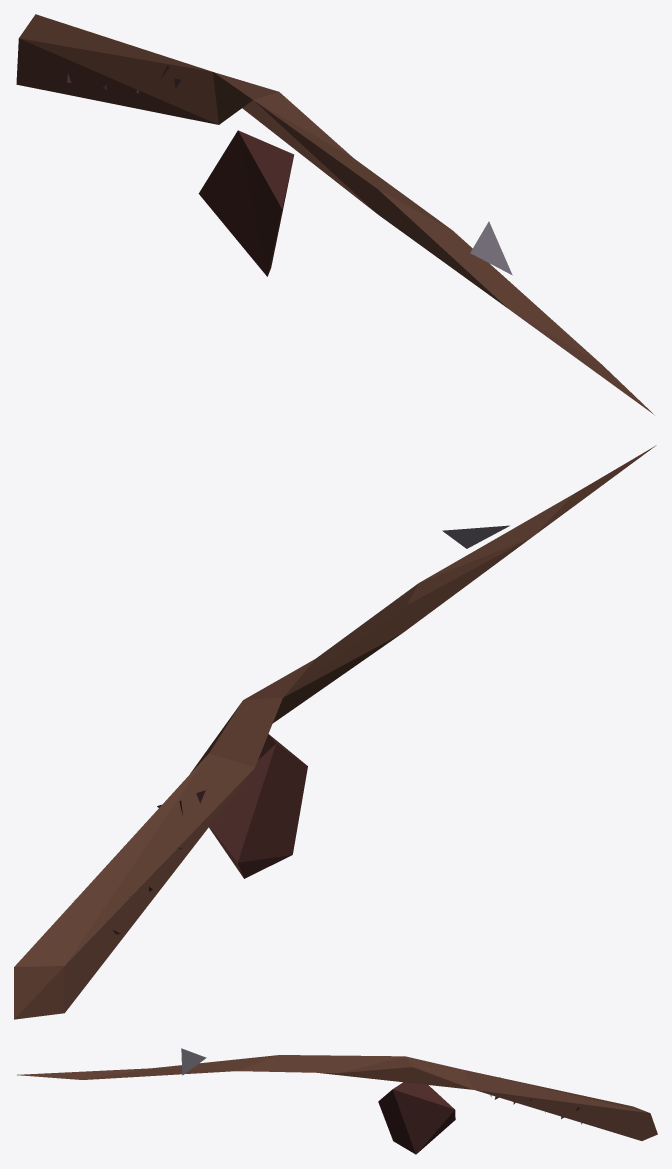
File: cove-fishing-rod.lod2.glb
3 renders of one model, top to bottom at view 1: azimuth 30°, elevation 25°; view 2: azimuth 150°, elevation 25°; view 3: azimuth 270°, elevation 25°, orthographic. The views are drawn at different scales.
Visible parts, largest first — view 1: LowPolyRod_rod_0; view 2: LowPolyRod_rod_0; view 3: LowPolyRod_rod_0.
Part boxes in pixels (<box>): LowPolyRod_rod_0: <box>16,14,653,414</box>; LowPolyRod_rod_0: <box>14,445,656,1019</box>; LowPolyRod_rod_0: <box>17,1048,657,1154</box>.
Size of the model in its own units: 0.0874 by 0.3108 by 1.83.
